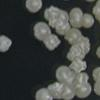white: (49, 10, 70, 28), (32, 21, 50, 41), (43, 32, 61, 51), (47, 82, 64, 100), (73, 83, 91, 100), (70, 71, 89, 87), (65, 26, 81, 45), (55, 65, 71, 83), (44, 6, 60, 23), (75, 36, 90, 54), (70, 9, 83, 29), (25, 0, 43, 14), (0, 34, 12, 54), (70, 57, 86, 72), (81, 12, 94, 29), (35, 88, 53, 100), (55, 21, 70, 35), (61, 84, 74, 100), (67, 48, 81, 61), (91, 81, 100, 98), (92, 66, 100, 82), (95, 45, 100, 62)
